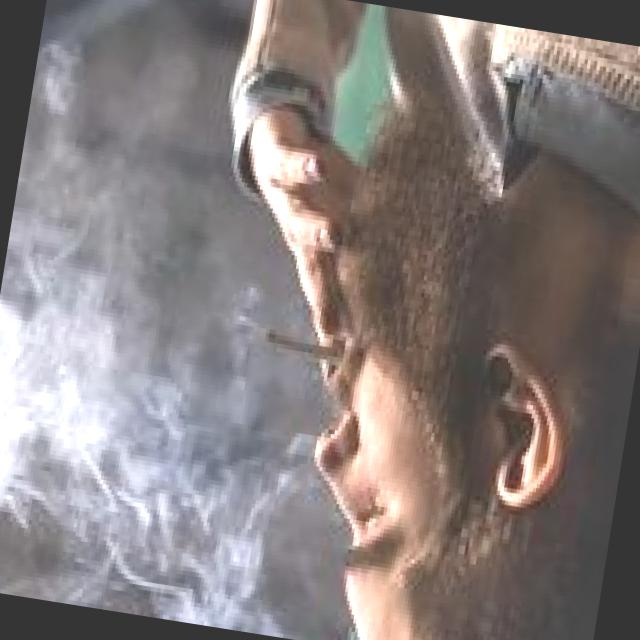cigarette: (257, 316, 351, 384)
